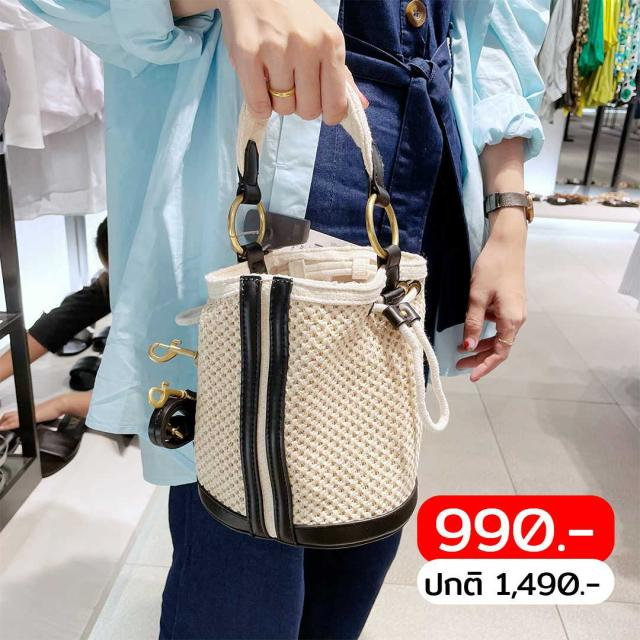Handbag: (180, 227, 452, 561)
